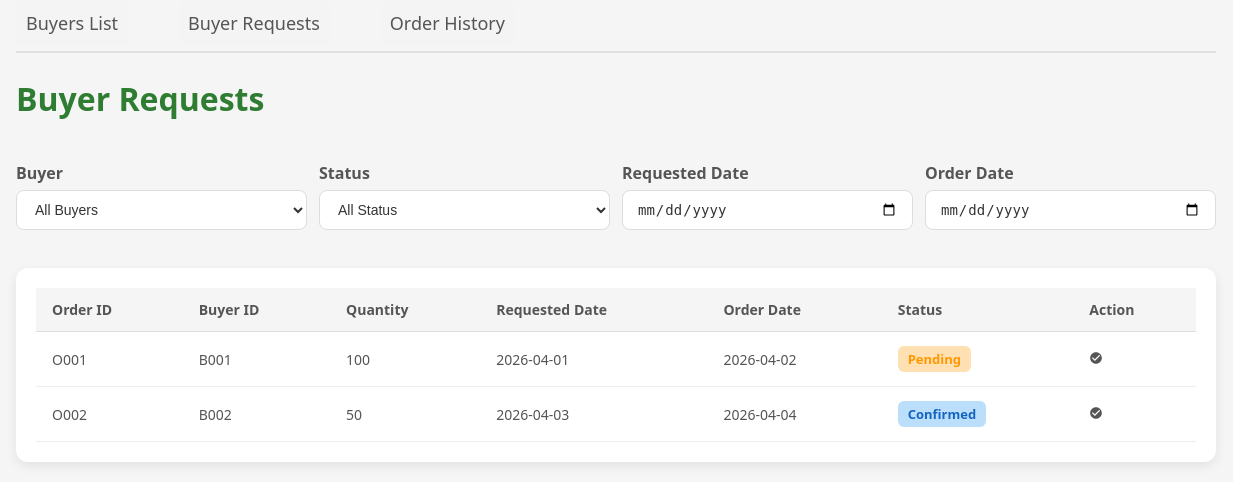
Test: BuyerRequestMatch Component › filters requests by buyer
Expected: the text "O001" is shown, [36,332,183,386]
Select "John Doe (B001)" in the dropdown labelled "Buyer" at coordinates (162, 210), box [16,190,307,230]
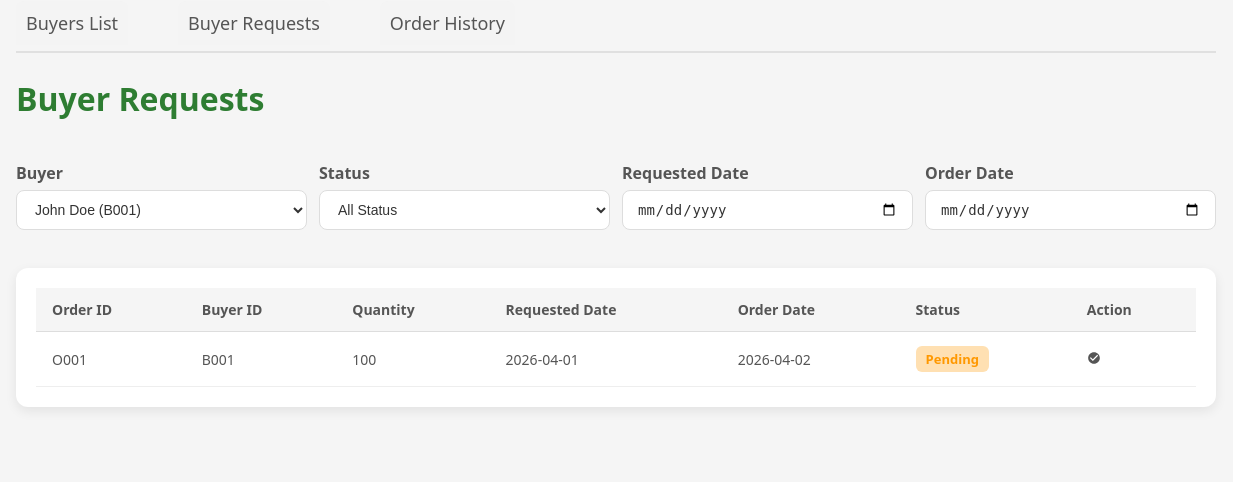
Expected: the text "O001" is shown, [36,332,186,386]
Result: the text "O002" is gone
